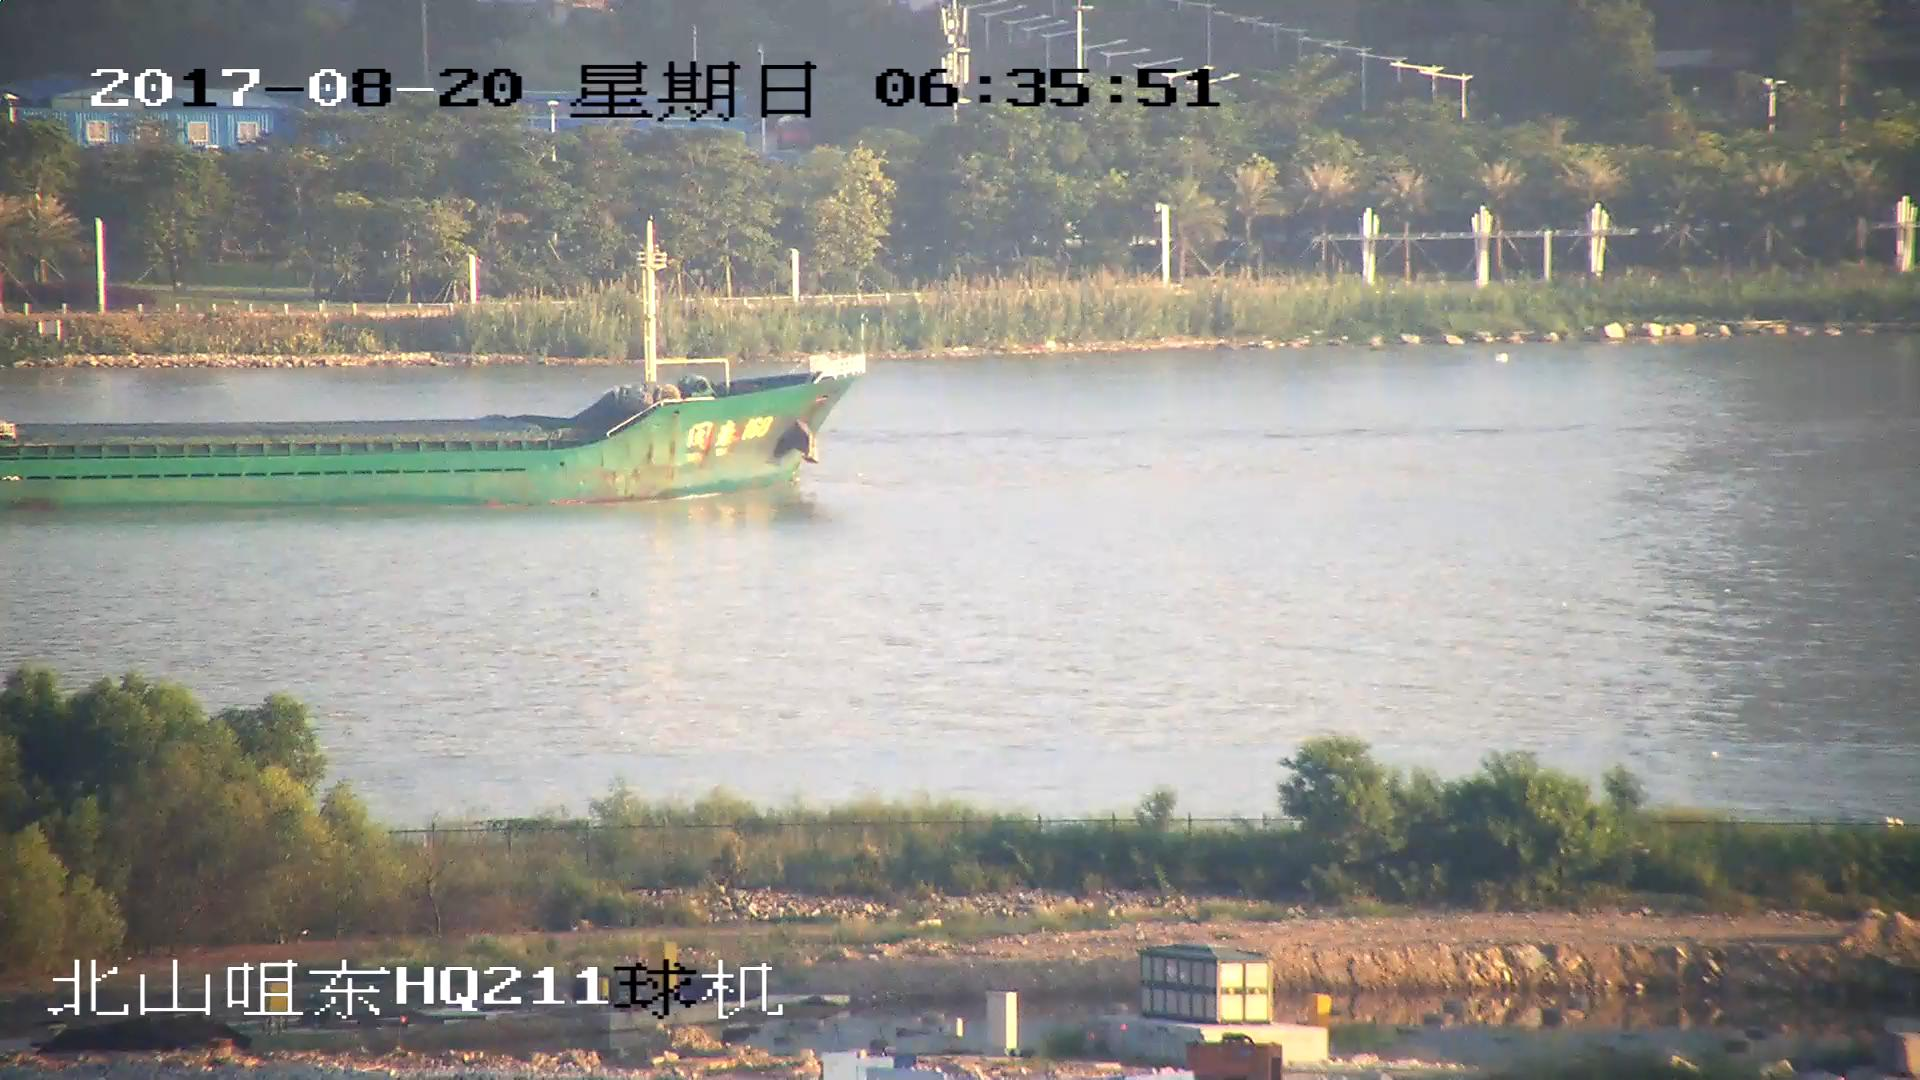general cargo ship: (1, 242, 855, 512)
